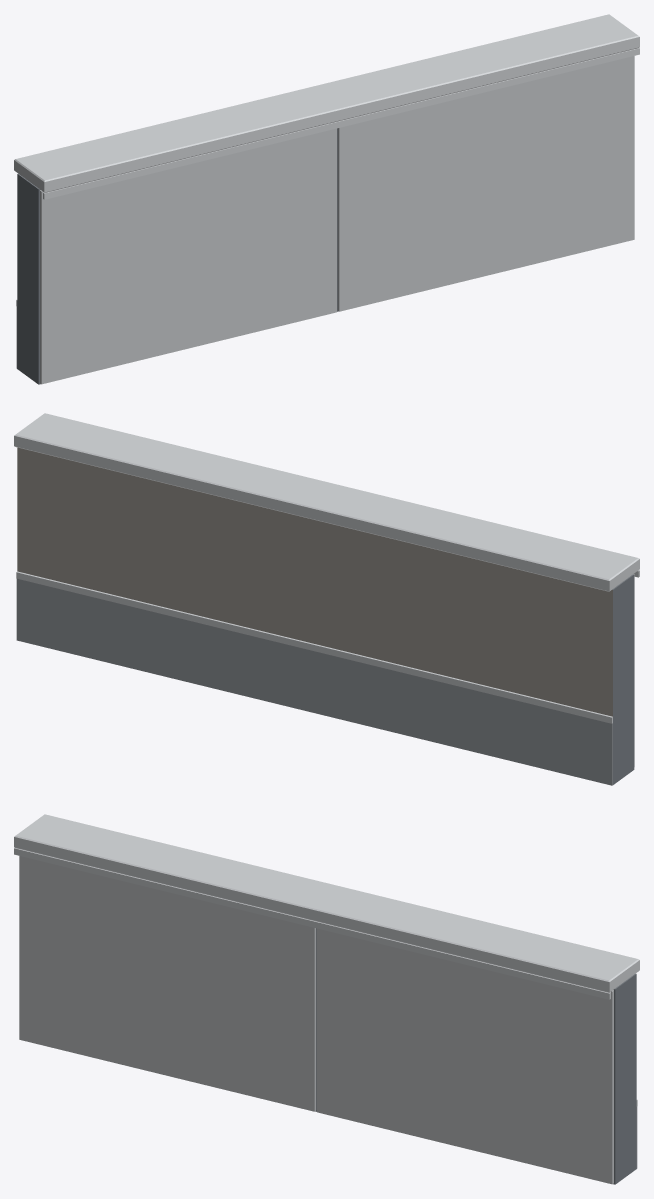
File: SC_Bld_Store_Parapet_3m.gltf
3 renders of one model, top to bottom at view 1: azimuth 30°, elevation 25°; view 2: azimuth 150°, elevation 25°; view 3: azimuth 330°, elevation 25°, orthographic.
Parts seen in each view (by area): view 1: SC_Bld_Store_Parapet_3m; view 2: SC_Bld_Store_Parapet_3m; view 3: SC_Bld_Store_Parapet_3m.
Part boxes in pixels (x1=…): SC_Bld_Store_Parapet_3m: x1=14, y1=14, x2=639, y2=384; SC_Bld_Store_Parapet_3m: x1=14, y1=413, x2=639, y2=785; SC_Bld_Store_Parapet_3m: x1=14, y1=814, x2=639, y2=1184.
Size of the model in its own units: 3 by 1 by 0.265.
Materials: 1 (1 with a texture image).
